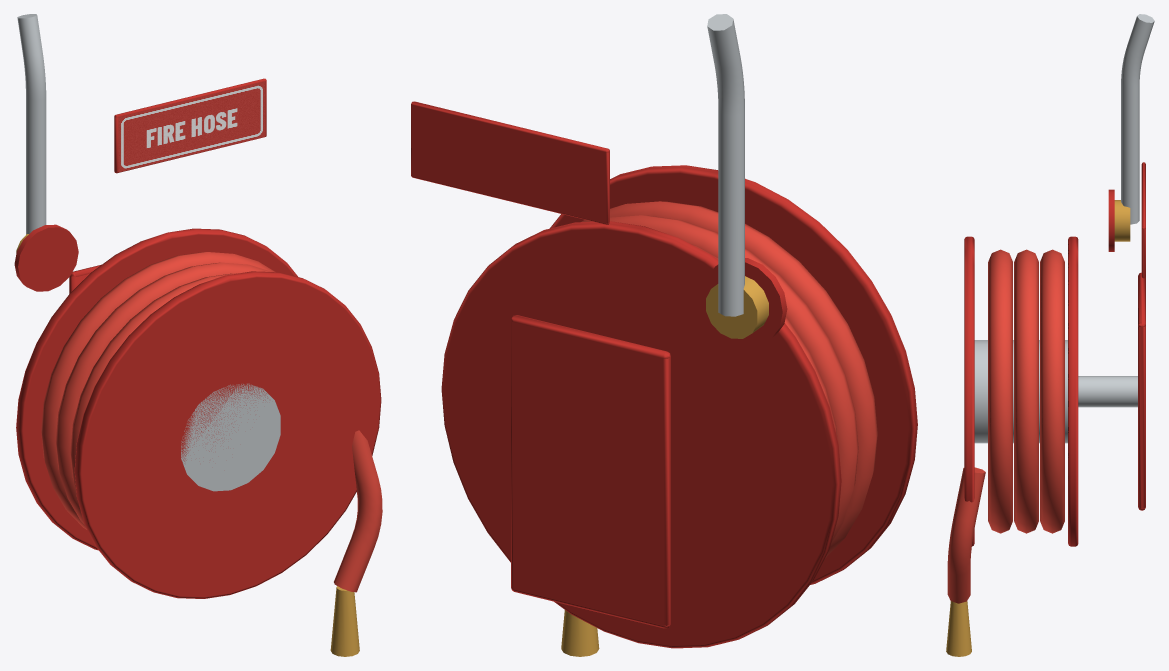
The model's file is hose_reel.glb.
The picture shows the model from 3 angles, left to right: view 1: azimuth 30°, elevation 25°; view 2: azimuth 150°, elevation 25°; view 3: azimuth 270°, elevation 25°; orthographic projection. The views are drawn at different scales.
Visible parts, largest first — view 1: HoseReelBody; view 2: HoseReelBody; view 3: HoseReelBody.
Part boxes in pixels (<box>): HoseReelBody: <box>14,14,382,656</box>; HoseReelBody: <box>411,14,917,656</box>; HoseReelBody: <box>946,14,1154,656</box>.
Bounding box in the file's own units: 0.6 × 1.16 × 0.4022.
5 materials, 1 textured.
